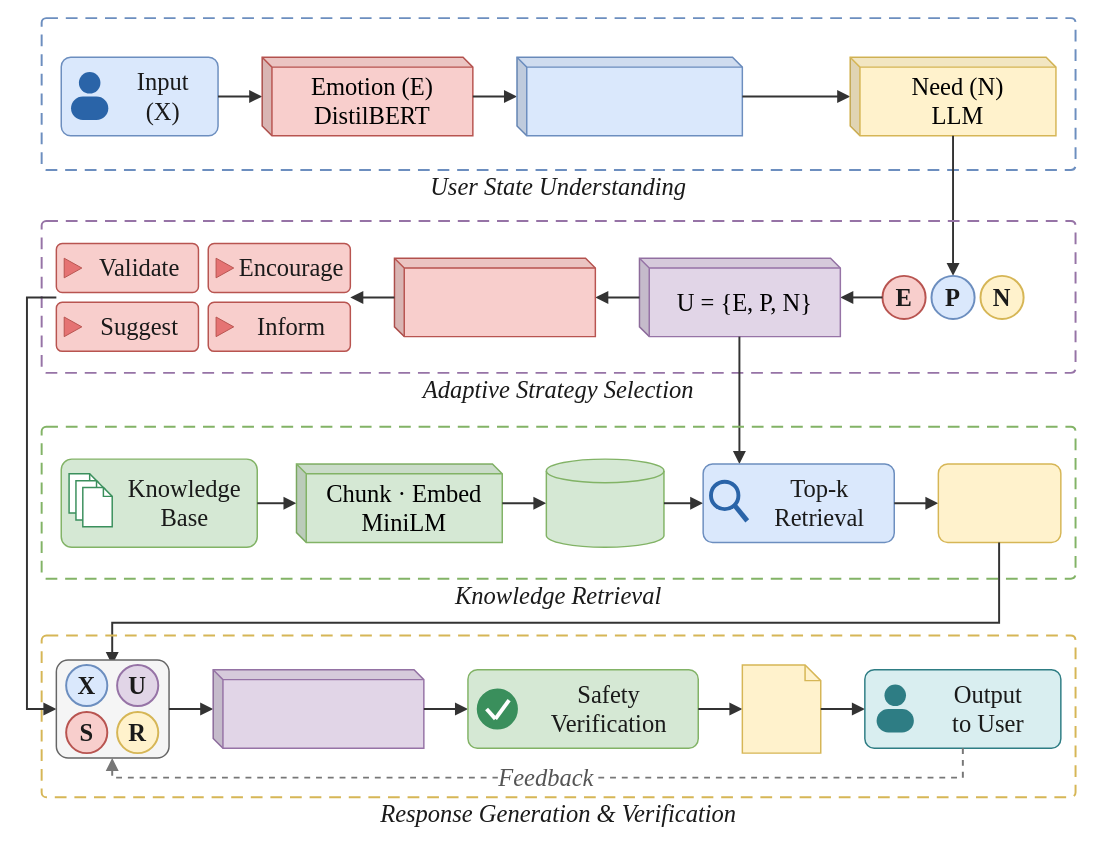
Image size: 1093x845. Some labels were removed from this diagram. The shapes that lost their labels are listed below. From the top down, each one's centre as x and y in pixels, then its label:
At point (629, 96): "Personality (P) SVM".
At point (494, 297): "Strategy DistilBERT".
At point (604, 503): "FAISS".
At point (999, 503): "Context (R)".
At point (318, 709): "Qwen2.5-3B Instruct".
At point (781, 708): "Y*".
